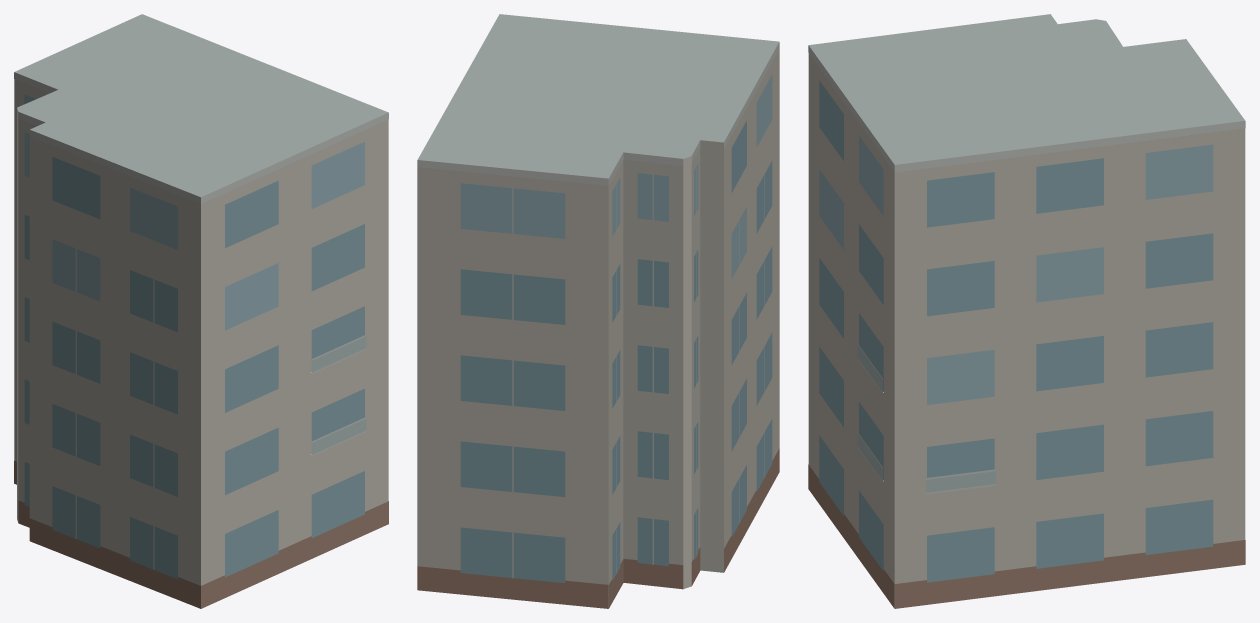
File: survey-upis-32666343.glb
The picture shows the model from 3 angles, left to right: view 1: azimuth 30°, elevation 25°; view 2: azimuth 150°, elevation 25°; view 3: azimuth 270°, elevation 25°; orthographic projection. The views are drawn at different scales.
Parts seen in each view (by area): view 1: survey-upis-32666343.tmp; view 2: survey-upis-32666343.tmp; view 3: survey-upis-32666343.tmp.
Part boxes in pixels (x1,y1,x2,y2): survey-upis-32666343.tmp: (14,14,388,608); survey-upis-32666343.tmp: (417,14,779,608); survey-upis-32666343.tmp: (808,14,1245,608).
Bounding box in the file's own units: 10.66 × 14.6 × 13.04.
